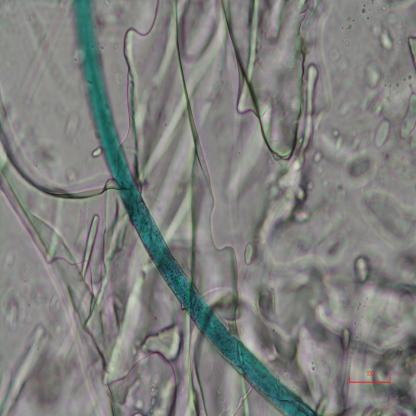Background material: (119, 0, 346, 289), (0, 127, 151, 413), (315, 262, 416, 412), (341, 144, 416, 253), (357, 27, 416, 158)
Microfibre: (71, 1, 316, 415)
